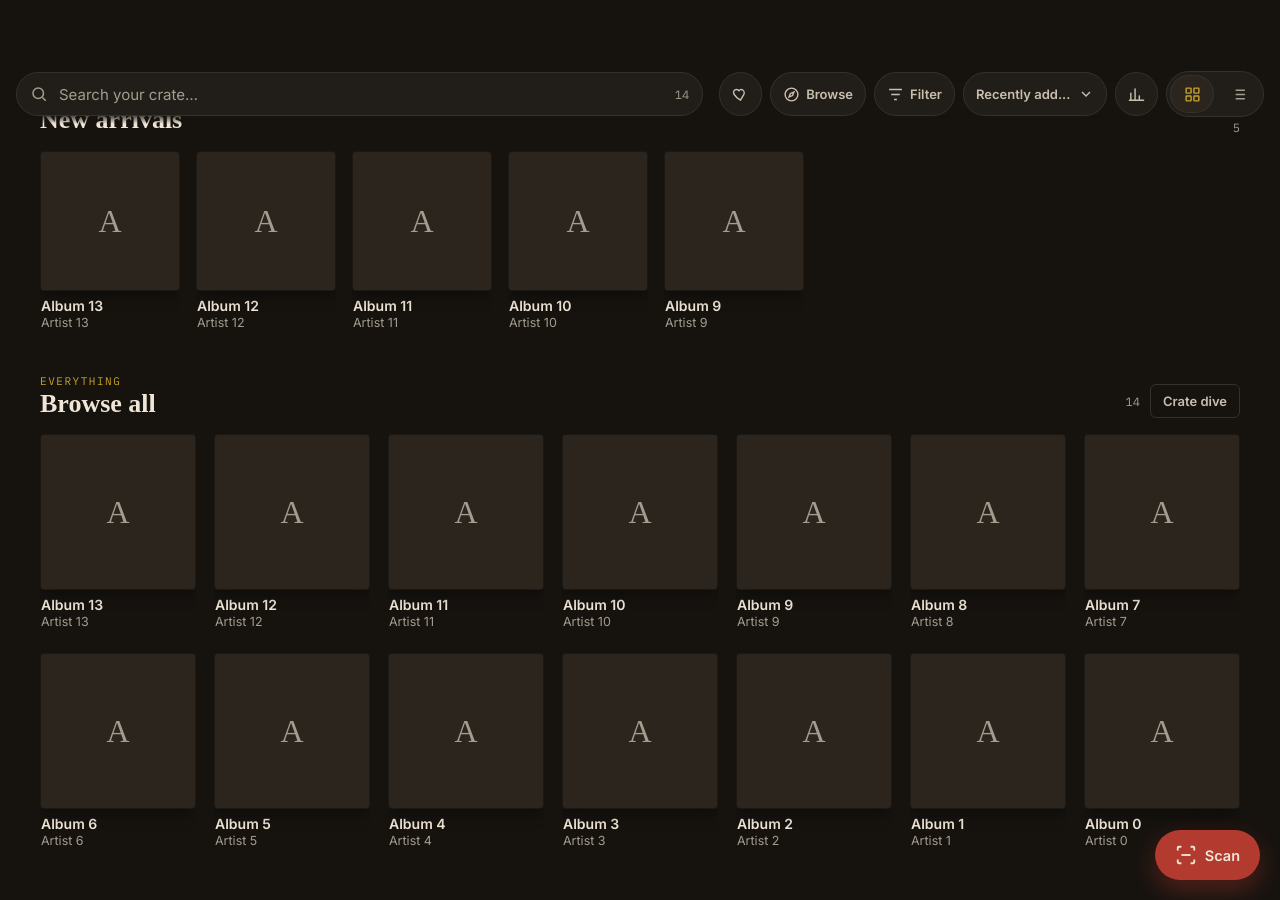
Test: CollectionView — Smart views & stats (§ Phase 5) › opens stats and shows genre + decade counts
Expected: the heading "Browse all" is shown, [40, 390, 156, 418]
Click the button named "Stats". click: (1136, 94)
box: [1115, 72, 1158, 116]
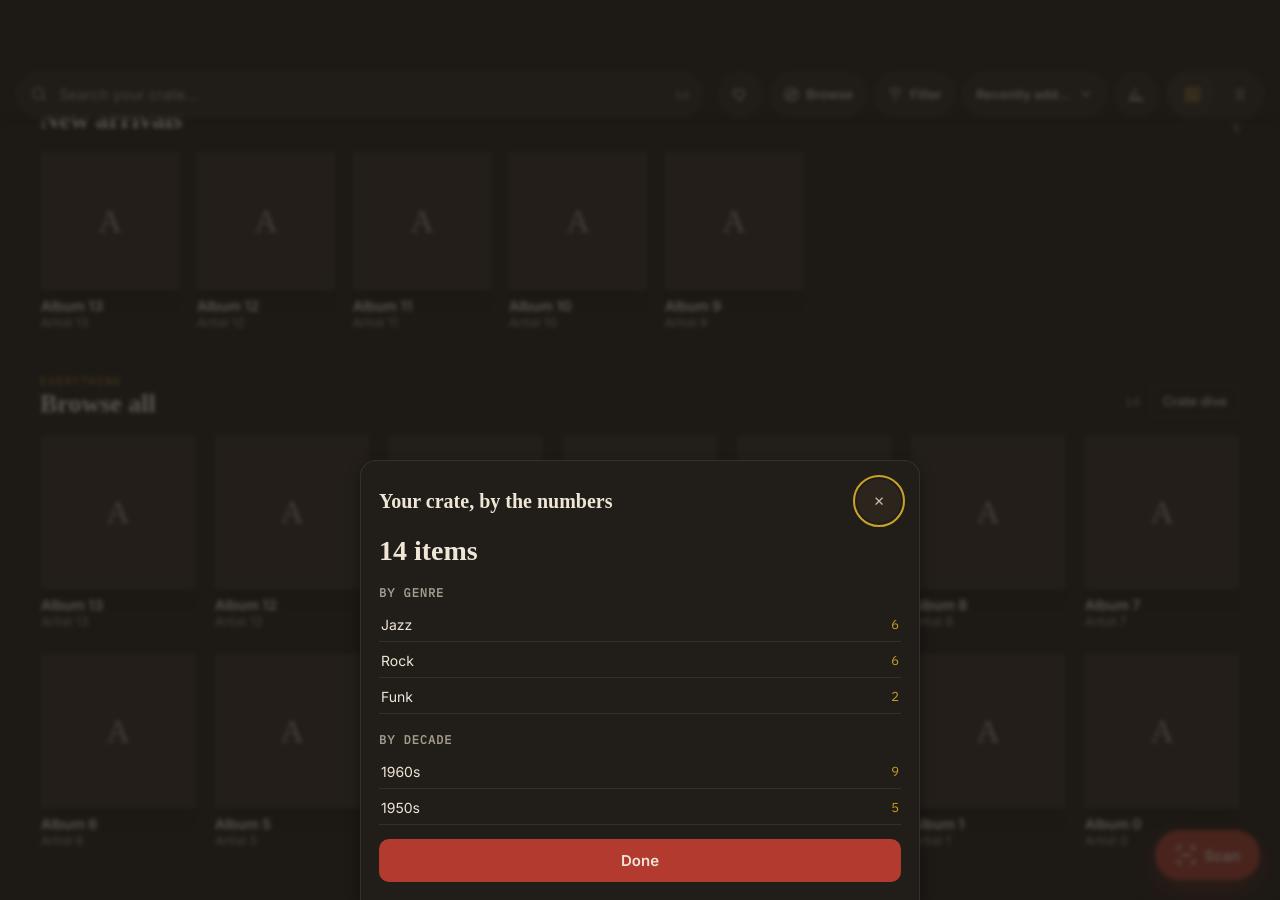
Result: the heading "By genre" is shown at [379, 585, 444, 600]
Result: the text "Rock" is shown at [381, 652, 414, 669]
Result: the text "Funk" is shown at [381, 688, 413, 705]
